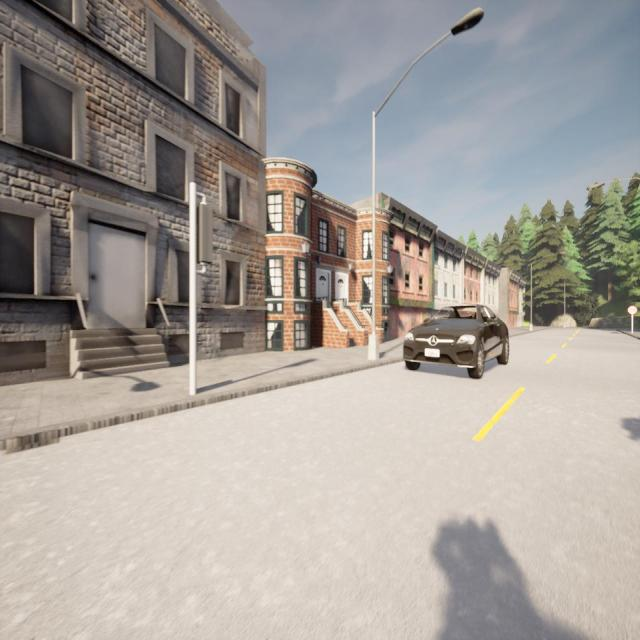Traffic_Signs: (628, 304, 638, 316)
Vehicle: (403, 304, 509, 378)
traffic_light: (196, 203, 215, 265)
